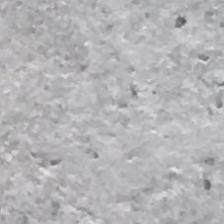Non_Crack: (32, 3, 119, 223)
